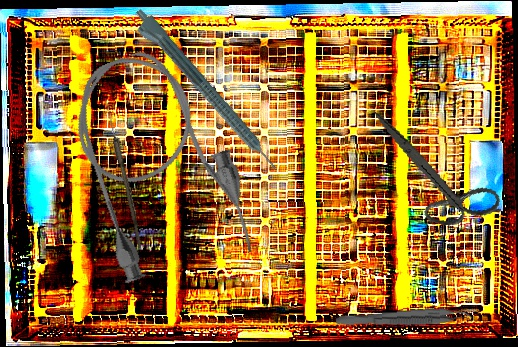Cannula: (51, 33, 267, 297)
Handpiece: (125, 5, 282, 180)
Iris Scissors: (354, 112, 513, 236)
Surgical Spoon: (101, 98, 146, 249)
Tissue Forceps: (335, 305, 473, 334)
